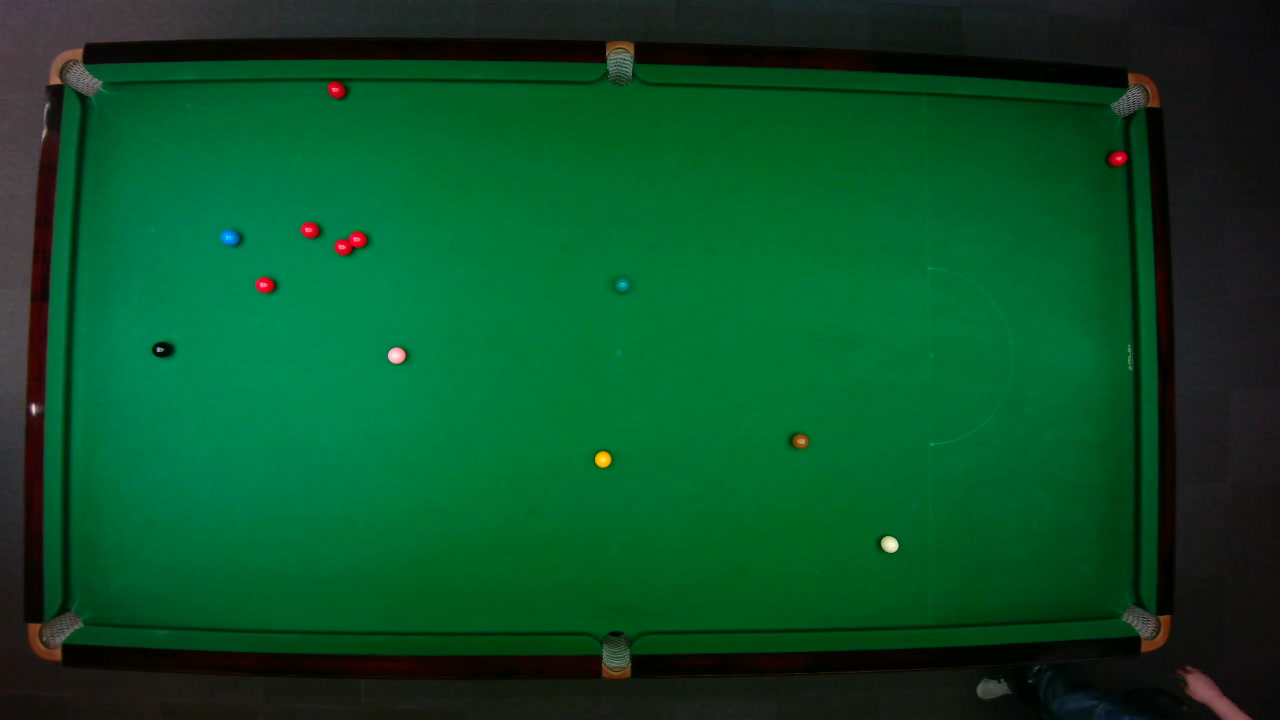bag: (25, 609, 84, 661), (47, 47, 103, 97), (1119, 603, 1171, 651), (1108, 72, 1160, 118), (600, 629, 630, 679), (605, 39, 633, 86)
black: (150, 339, 172, 358)
blue: (219, 228, 240, 246)
brown: (790, 432, 809, 449)
green: (613, 276, 630, 293)
pink: (386, 345, 406, 364)
red: (332, 236, 354, 255), (347, 229, 368, 248), (1106, 149, 1129, 166), (326, 80, 346, 99), (299, 220, 320, 238), (254, 275, 275, 293)
white: (878, 534, 899, 553)
yellow: (593, 449, 612, 468)
zone: (927, 266, 1013, 445)
